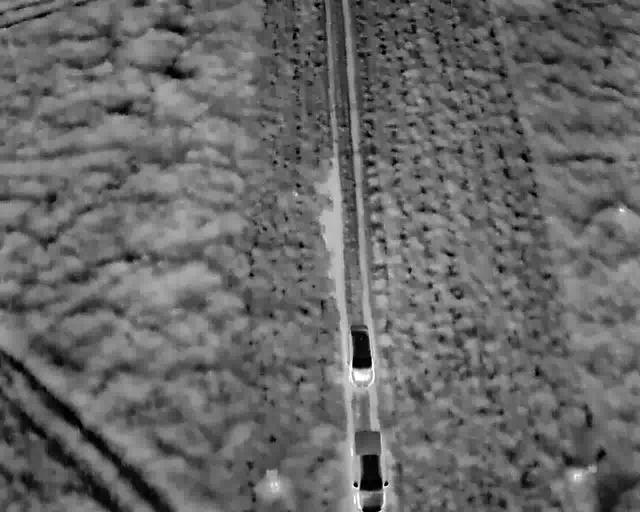person: (313, 202, 324, 223), (339, 209, 350, 229), (328, 197, 339, 217), (319, 211, 330, 231)
